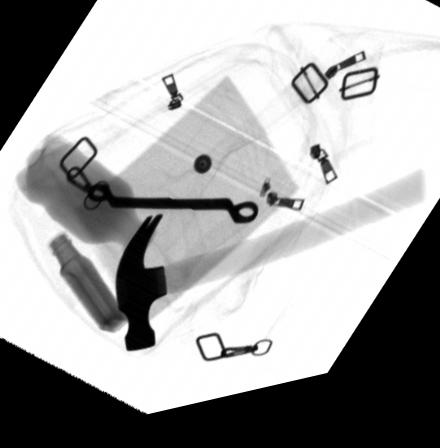Hammer: (113, 189, 427, 358)
Wrench: (89, 189, 258, 235)
